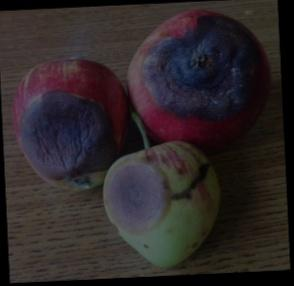rotten apple: (127, 8, 268, 147), (10, 52, 129, 193), (100, 142, 219, 269)
